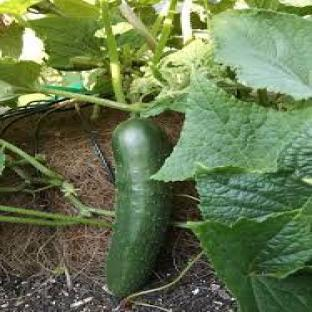Cucumber: (107, 119, 171, 296)
